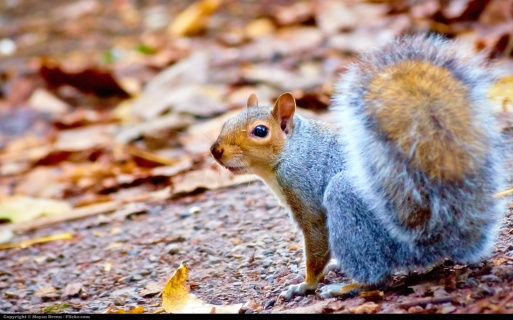Squirrel: (160, 32, 512, 298)
